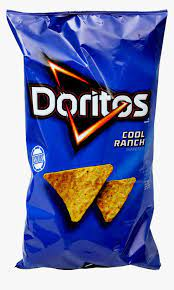Doritos: (4, 6, 167, 276)
